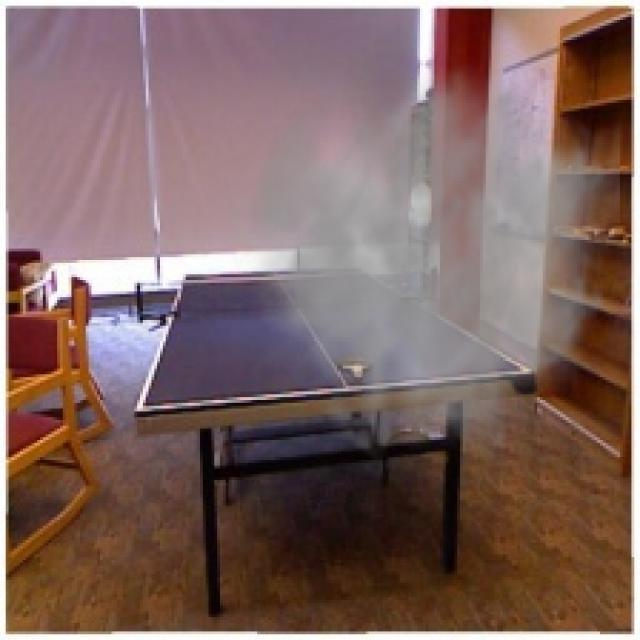Smoke: (217, 57, 620, 463)
